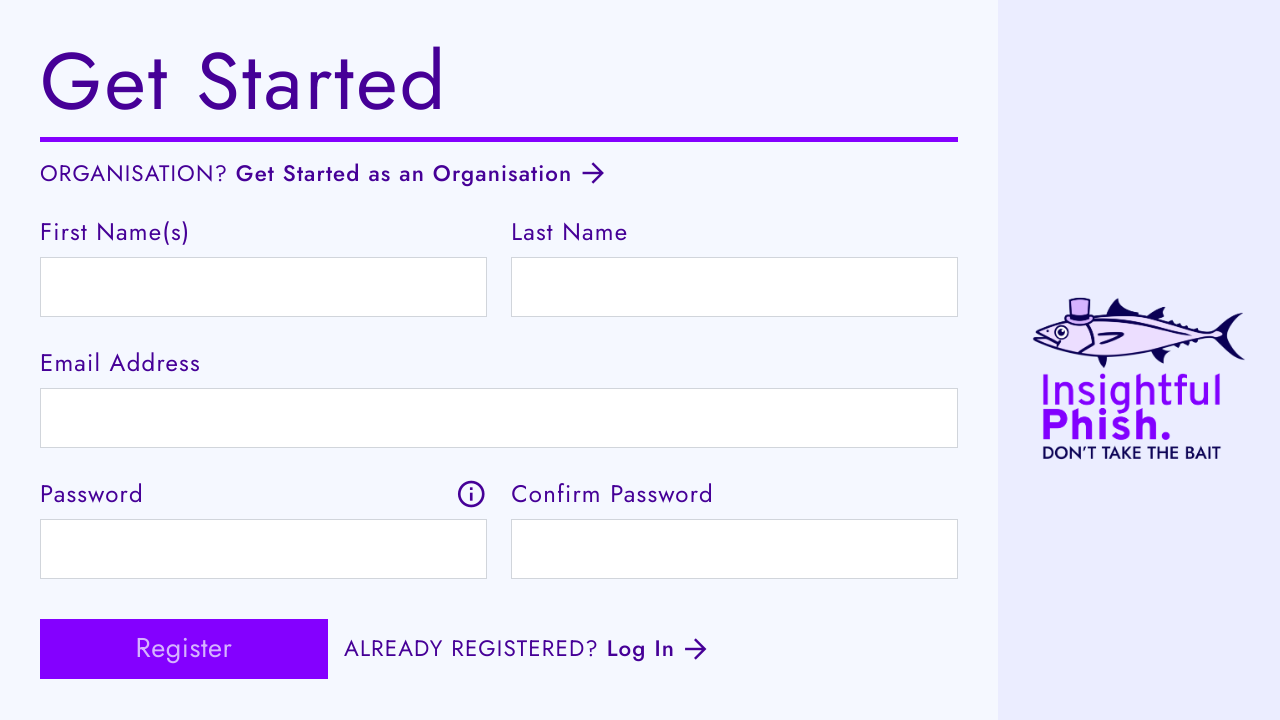
Test: RegisterPage › blocks submission when the confirmation password does not match
Type "  Jane  " into the field labelled "First Name(s)" at (264, 286), box [40,256,487,316]
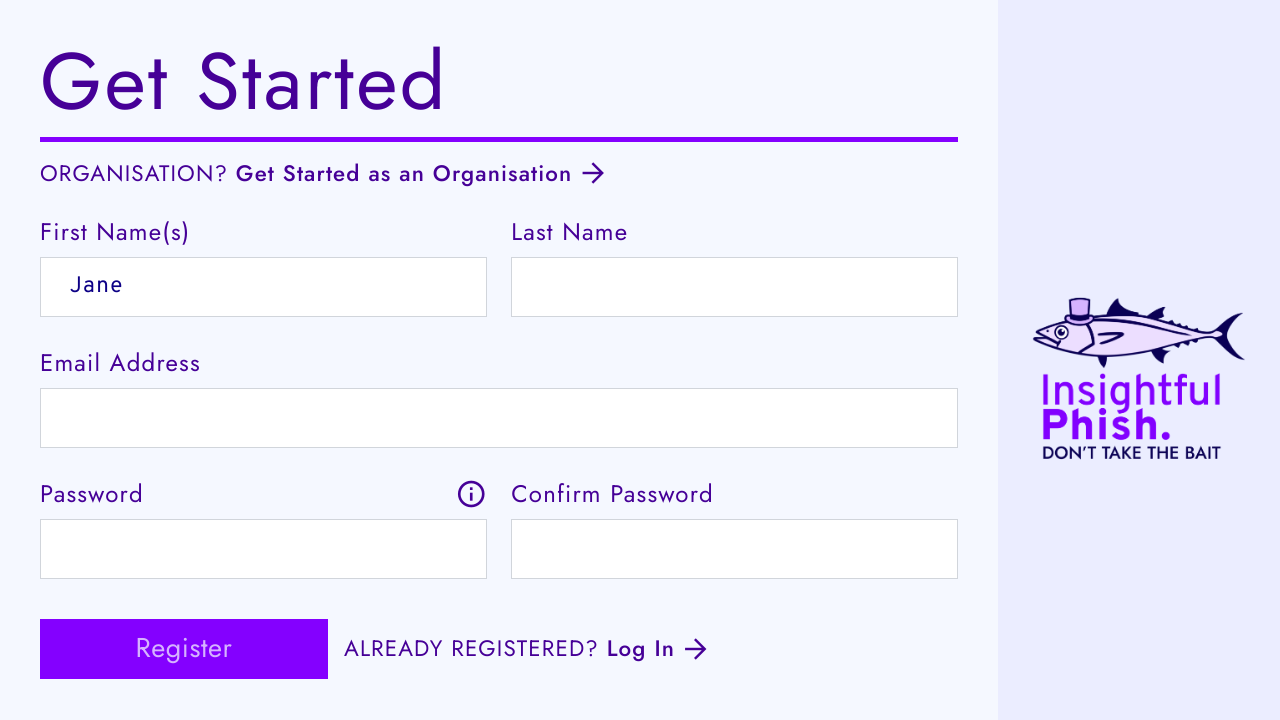
Type "  Doe  " into the field labelled "Last Name" at (735, 286), box [511,256,958,316]
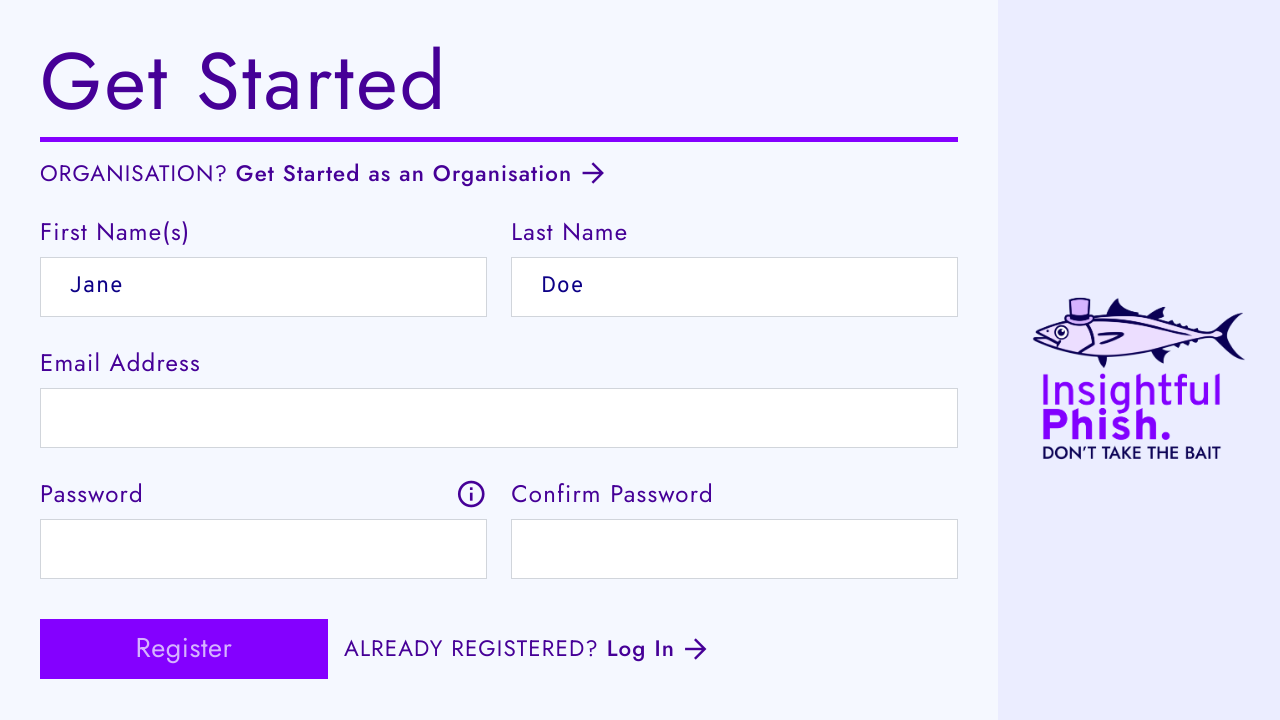
Type "  TRAINEE@example.com  " into the field labelled "Email Address" at (499, 418), box [40,388,958,448]
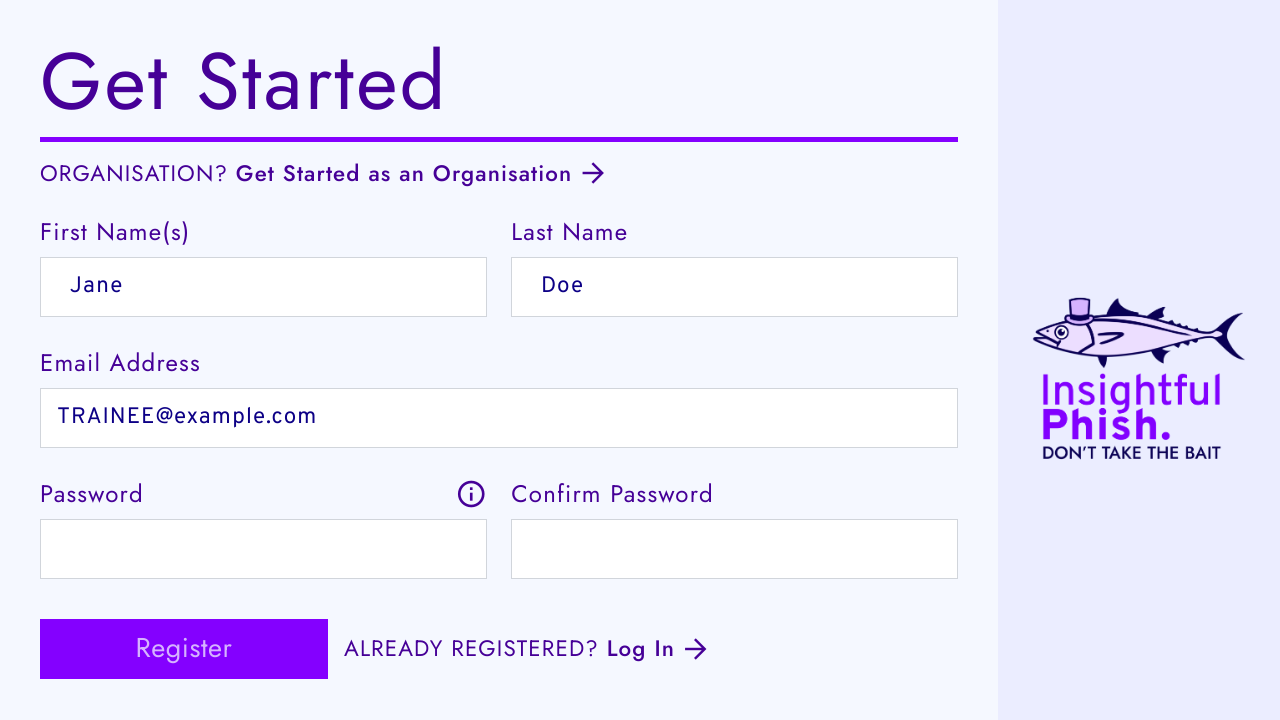
Type "StrongPass123!" into the password field labelled "Password" at (264, 549), box [40,519,487,579]
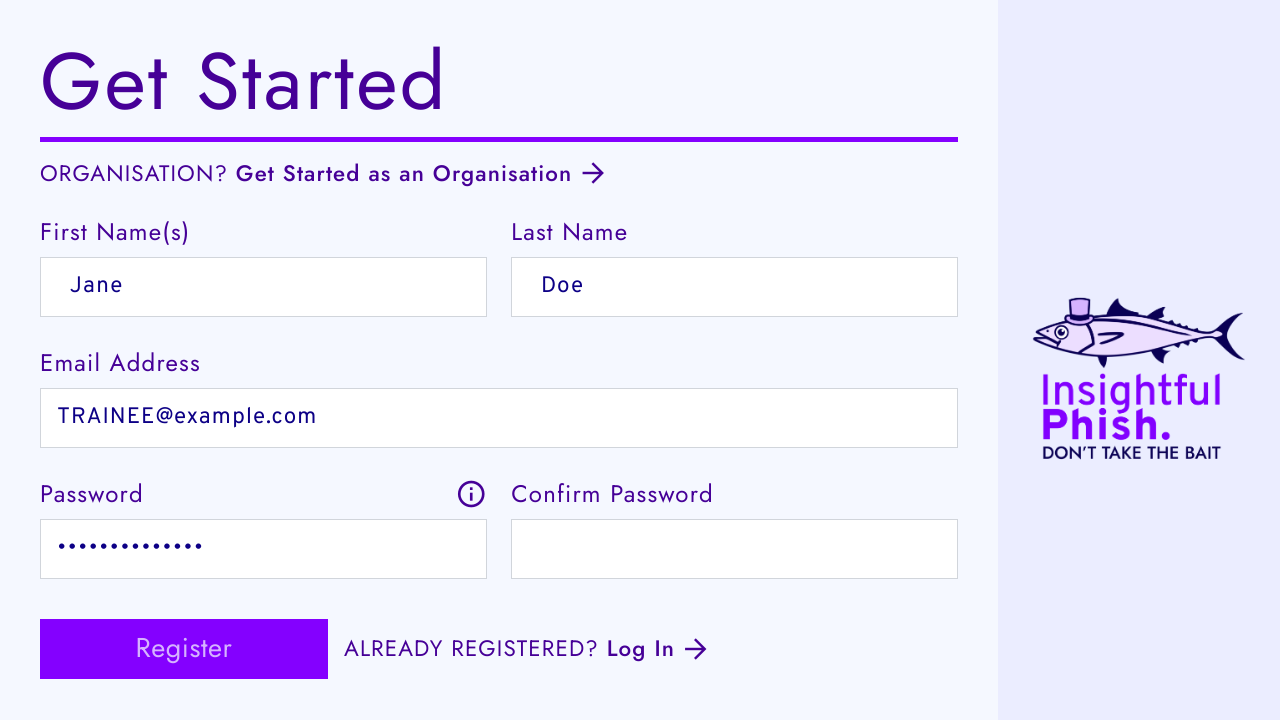
Type "DifferentPass123!" into the password field labelled "Confirm Password" at (735, 549), box [511,519,958,579]
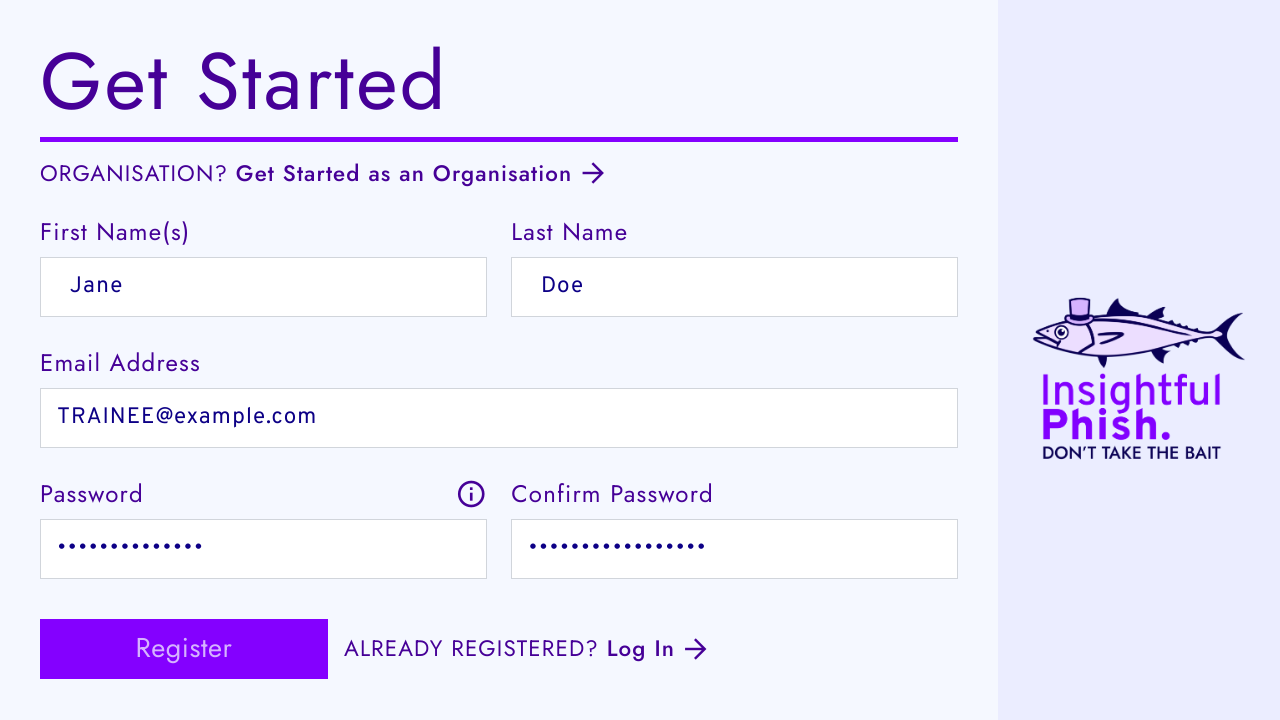
Click the button "Register" at (184, 649), box [40,619,328,679]
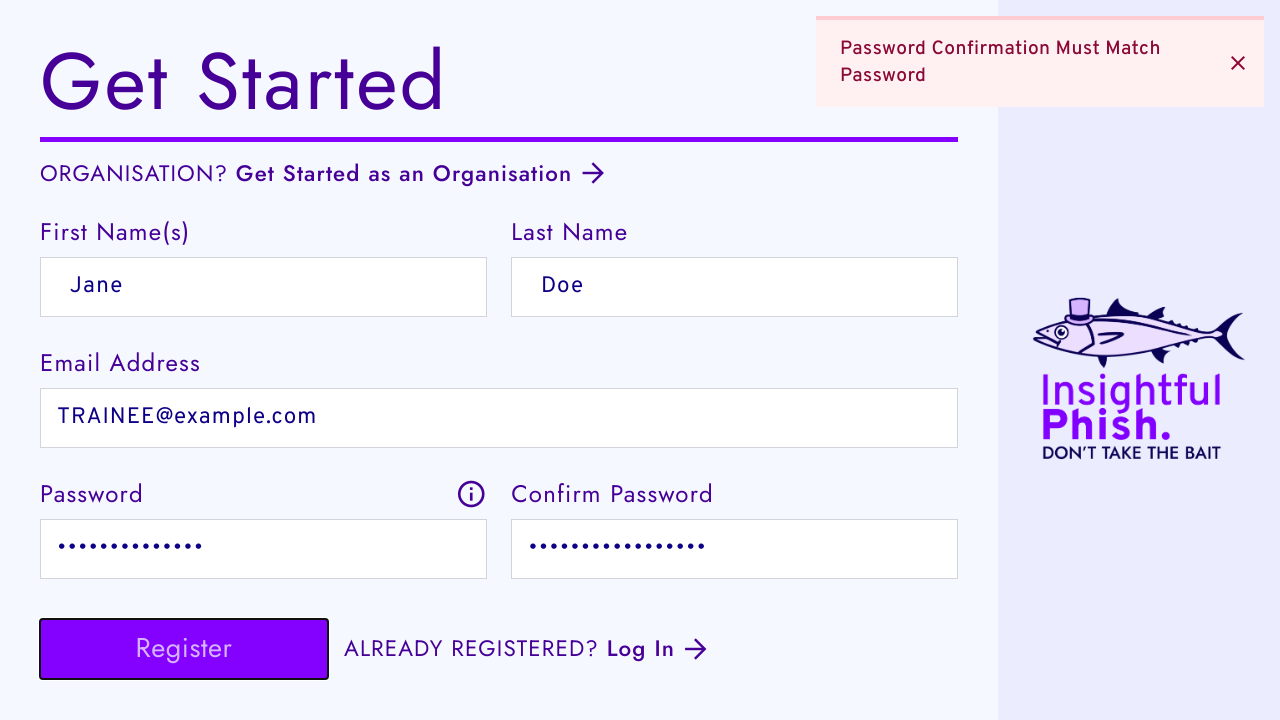
Expected: the text "Password Confirmation Must Match Password" is shown, [840,37,1161,88]
